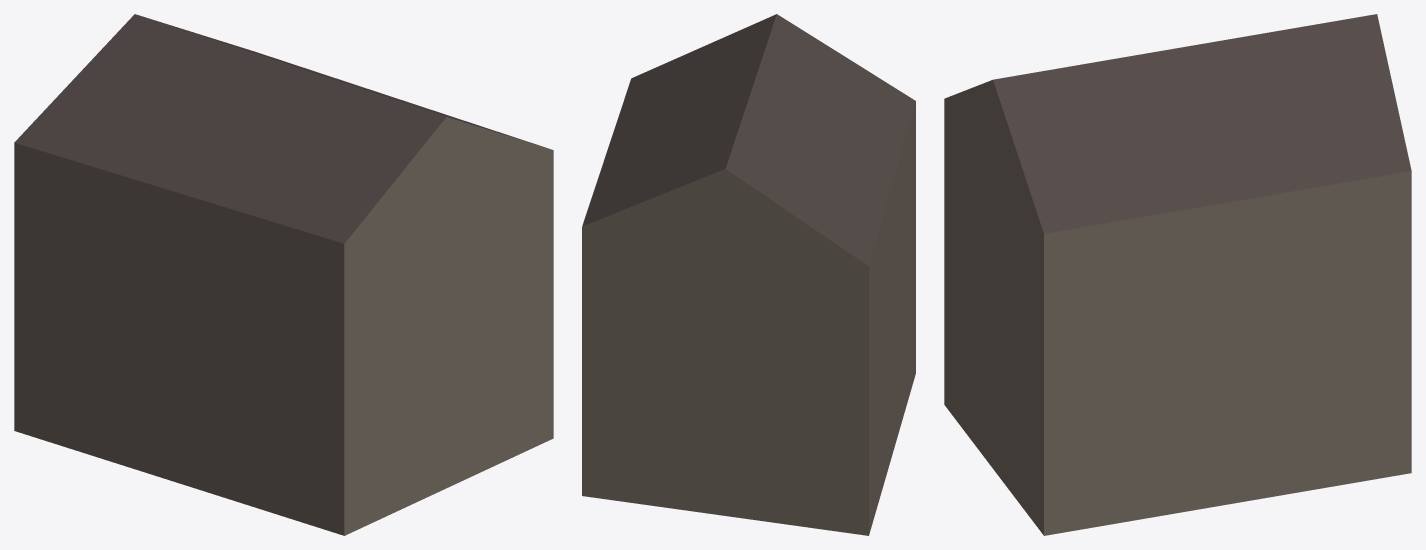
The picture shows the model from 3 angles, left to right: view 1: azimuth 30°, elevation 25°; view 2: azimuth 150°, elevation 25°; view 3: azimuth 270°, elevation 25°; orthographic projection. The views are drawn at different scales.
Visible parts, largest first — view 1: HP-w1198721571; view 2: HP-w1198721571; view 3: HP-w1198721571.
Boxes of the visible parts, <box> form: HP-w1198721571: <box>14,14,553,535</box>; HP-w1198721571: <box>582,14,915,535</box>; HP-w1198721571: <box>944,14,1411,535</box>.
Size of the model in its own units: 8.64 by 7.73 by 8.42.
